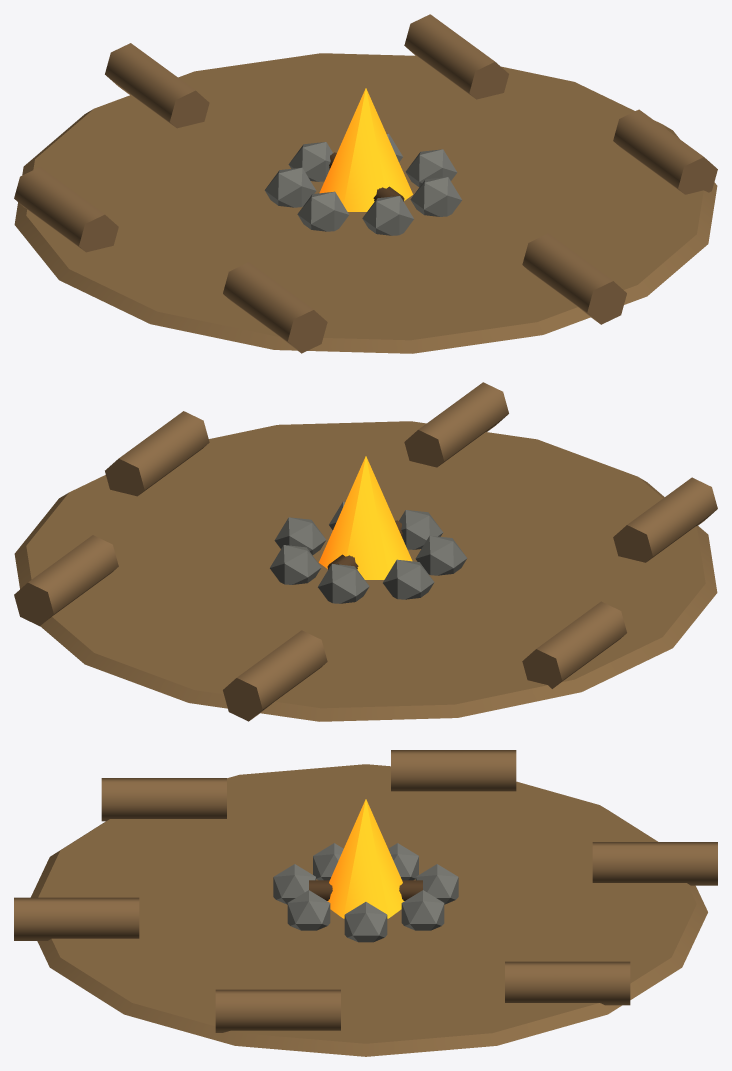
Rendered from goblin-level1.glb.
3 views of the same model, one above another, from view 1: azimuth 30°, elevation 25°; view 2: azimuth 150°, elevation 25°; view 3: azimuth 270°, elevation 25° (orthographic). The views are drawn at different scales.
Visible parts, largest first — view 1: object 1, flame, object 14, object 15, object 13, object 17, object 18, object 16, object 5, object 4, object 3, object 6 (+2 smaller); view 2: object 1, flame, object 17, object 18, object 14, object 16, object 15, object 13, object 6, object 7, object 8, object 5 (+2 smaller); view 3: object 1, object 18, object 14, object 13, object 16, object 17, flame, object 15, object 2, object 3, object 8, object 4 (+3 smaller).
Boxes of the visible parts, x1=… form: object 1: x1=14, y1=53, x2=717, y2=353; flame: x1=319, y1=88, x2=412, y2=211; object 14: x1=522, y1=233, x2=626, y2=324; object 15: x1=223, y1=262, x2=327, y2=353; object 13: x1=613, y1=109, x2=717, y2=194; object 17: x1=105, y1=43, x2=209, y2=128; object 18: x1=404, y1=14, x2=508, y2=99; object 16: x1=14, y1=167, x2=118, y2=252; object 5: x1=297, y1=191, x2=348, y2=231; object 4: x1=362, y1=196, x2=413, y2=235; object 3: x1=410, y1=177, x2=461, y2=216; object 6: x1=264, y1=167, x2=316, y2=207; object 1: x1=14, y1=421, x2=717, y2=721; flame: x1=319, y1=456, x2=412, y2=579; object 17: x1=223, y1=630, x2=327, y2=721; object 18: x1=14, y1=535, x2=118, y2=626; object 14: x1=404, y1=382, x2=508, y2=467; object 16: x1=522, y1=601, x2=626, y2=688; object 15: x1=613, y1=477, x2=717, y2=562; object 13: x1=105, y1=411, x2=209, y2=496; object 6: x1=383, y1=559, x2=434, y2=599; object 7: x1=318, y1=564, x2=369, y2=603; object 8: x1=270, y1=545, x2=321, y2=584; object 5: x1=415, y1=535, x2=467, y2=575; object 1: x1=30, y1=764, x2=707, y2=1056; object 18: x1=505, y1=961, x2=630, y2=1005; object 14: x1=14, y1=897, x2=139, y2=940; object 13: x1=215, y1=989, x2=340, y2=1032; object 16: x1=391, y1=750, x2=516, y2=791; object 17: x1=592, y1=842, x2=717, y2=885; flame: x1=327, y1=799, x2=404, y2=918; object 15: x1=101, y1=778, x2=226, y2=821; object 2: x1=344, y1=902, x2=387, y2=942; object 3: x1=287, y1=890, x2=330, y2=930; object 8: x1=401, y1=890, x2=444, y2=930; object 4: x1=273, y1=864, x2=315, y2=904.
Size of the model in its own units: 3 by 0.5636 by 3.09.
